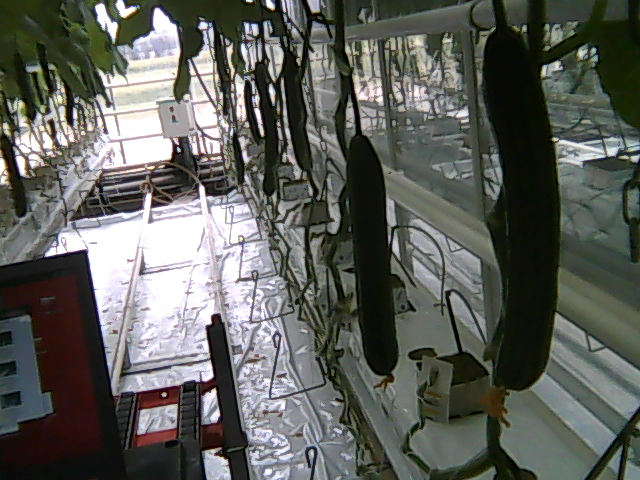concombre: (479, 20, 566, 419), (344, 129, 399, 389)
